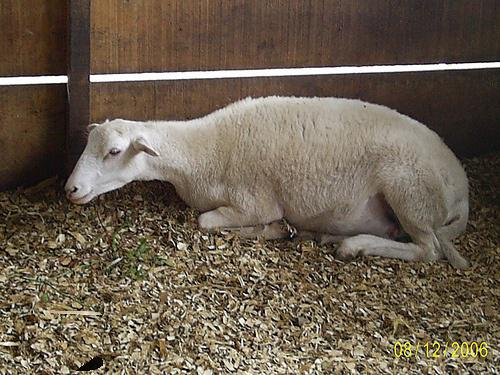tampered: (49, 311, 103, 371)
